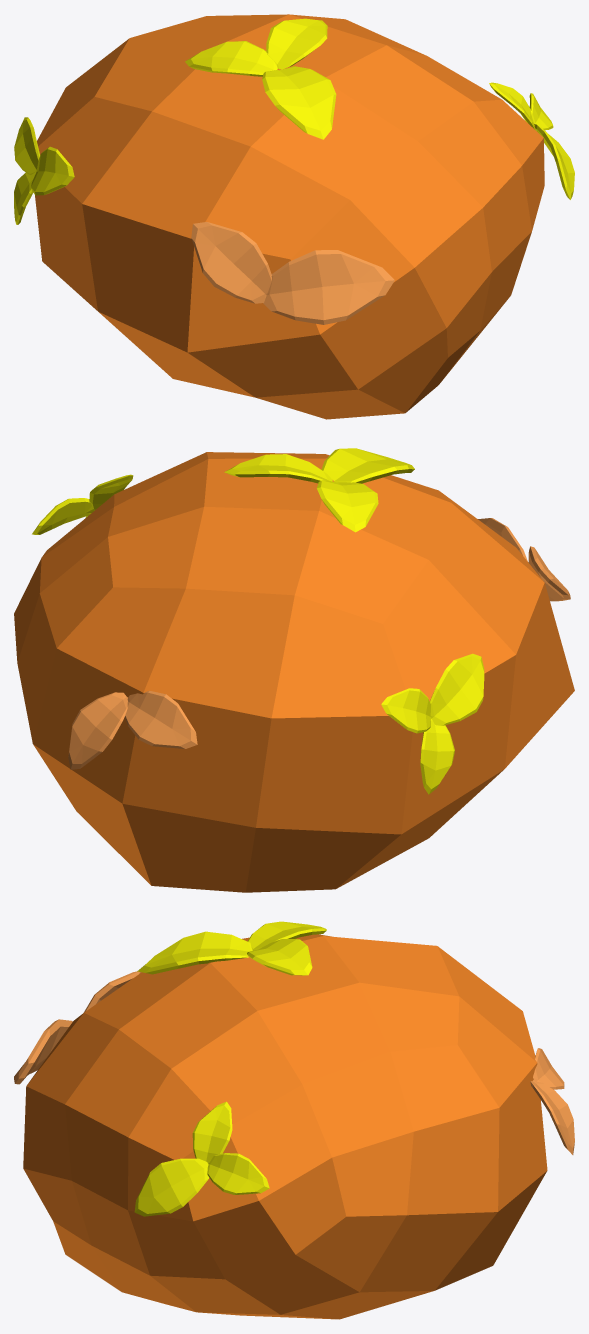
The model's file is SM_Bush_4.fbx.
The picture shows the model from 3 angles, top to bottom: view 1: azimuth 30°, elevation 25°; view 2: azimuth 150°, elevation 25°; view 3: azimuth 270°, elevation 25°; orthographic projection. The views are drawn at different scales.
Visible parts, largest first — view 1: SM_Bush_4_LOD0; view 2: SM_Bush_4_LOD0; view 3: SM_Bush_4_LOD0.
Part boxes in pixels (left/top/right/bottom): SM_Bush_4_LOD0: left=14, top=14, right=574, bottom=419; SM_Bush_4_LOD0: left=14, top=448, right=574, bottom=892; SM_Bush_4_LOD0: left=14, top=921, right=574, bottom=1319.
Size of the model in its own units: 214 by 229 by 156.
1 material, 1 textured.
